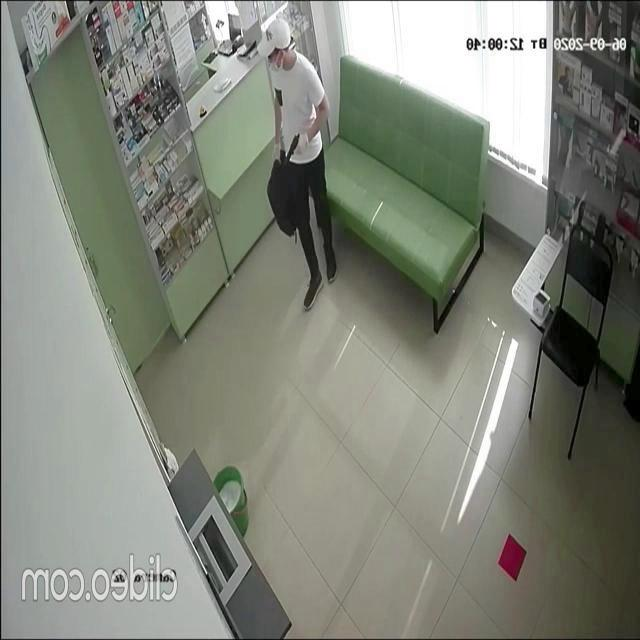gun: (256, 17, 338, 313), (282, 130, 302, 170)
